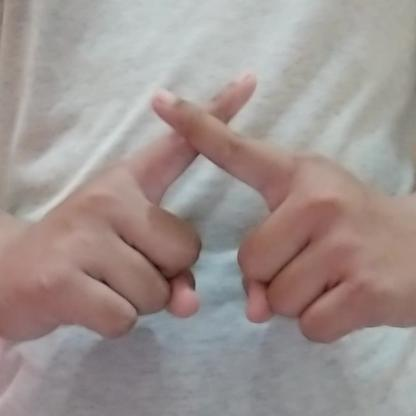X: (16, 70, 410, 347)
